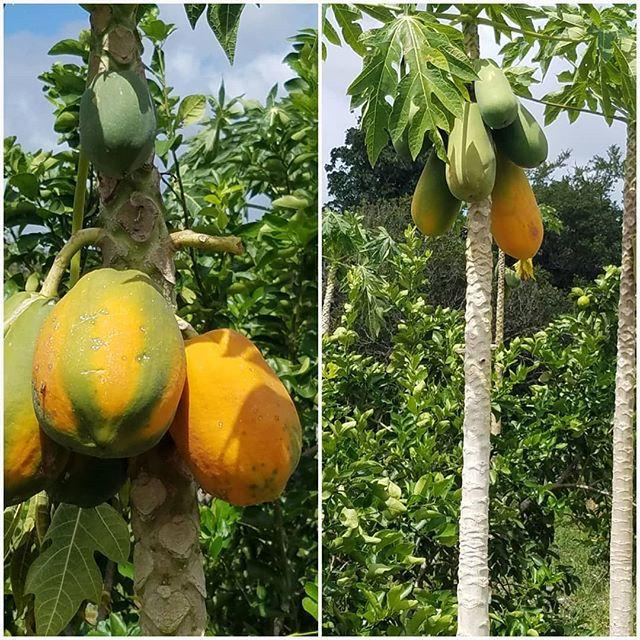Pepaya rippen: (30, 246, 194, 489), (184, 316, 306, 514), (494, 160, 550, 266), (444, 104, 492, 198), (406, 161, 455, 239)
Pepaya unrippen: (69, 68, 167, 189), (469, 53, 515, 128)
